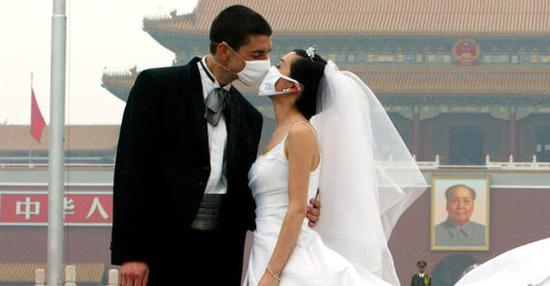NONE: (449, 190, 476, 223)
OK: (236, 43, 271, 88), (261, 55, 294, 99)
